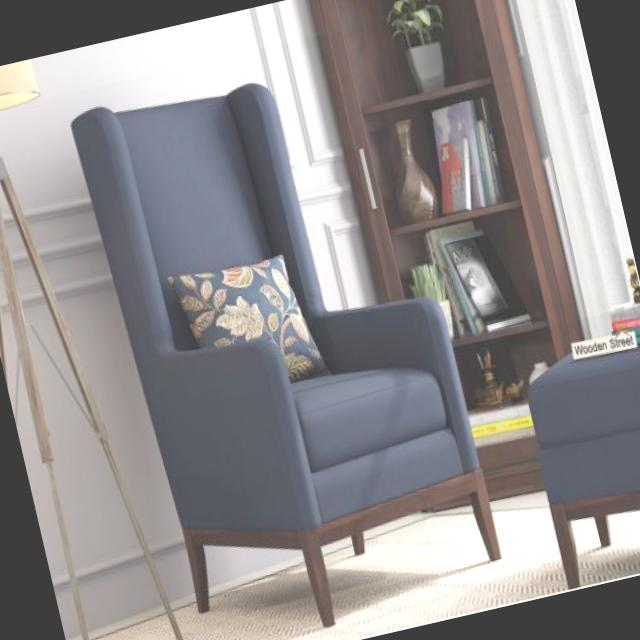obstacle: (54, 13, 515, 640)
